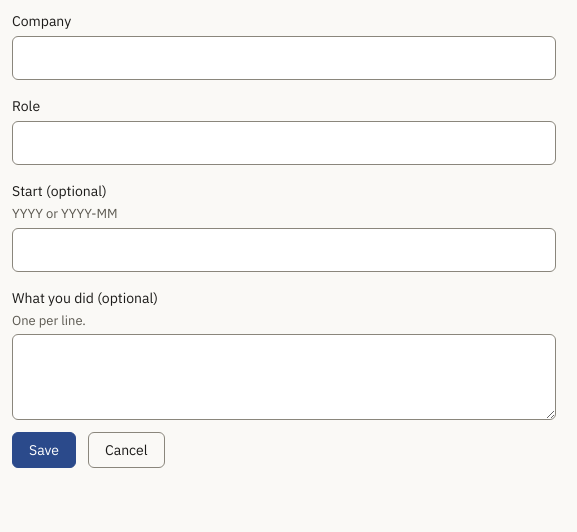
Scenario: EntryForm › blocks saving without the required fields and says which
The width and height of the screenshot is (577, 532).
Click the button "Save" at (44,450), box [12,432,76,468]
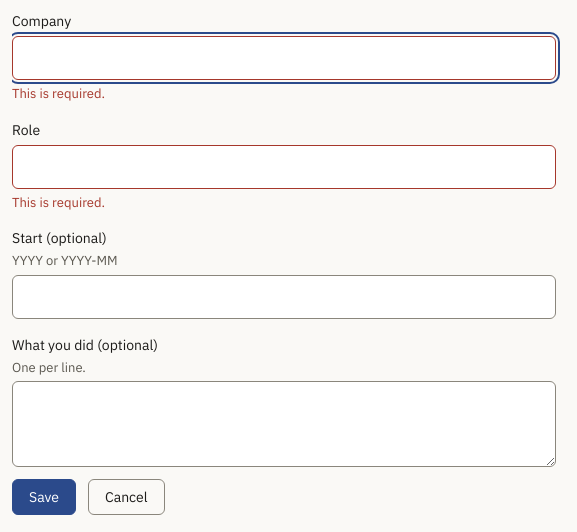
Expected: the text "This is required." is shown 2 times, [12,85,105,102]; [12,194,105,210]
